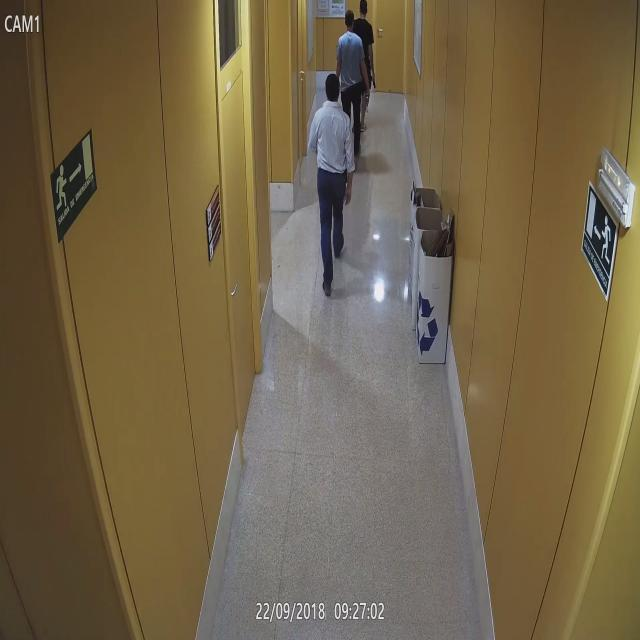Gun: (362, 88, 372, 112), (368, 69, 377, 90)
